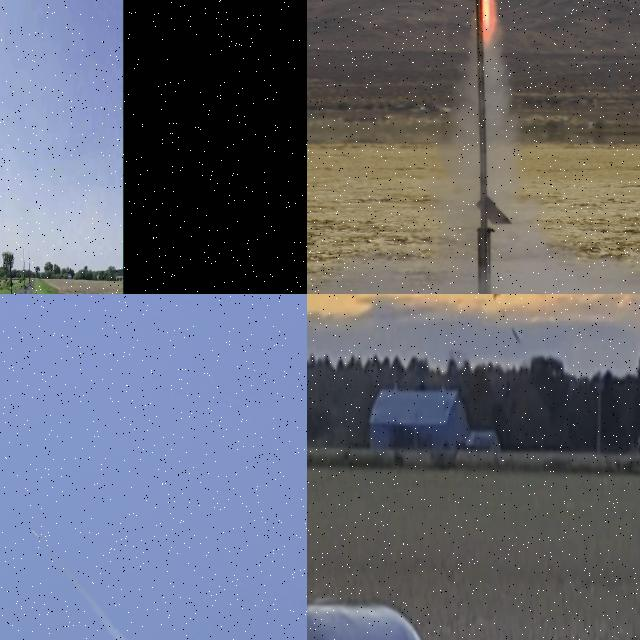Rocket: (32, 531, 43, 540), (10, 260, 12, 286), (506, 382, 509, 395)
